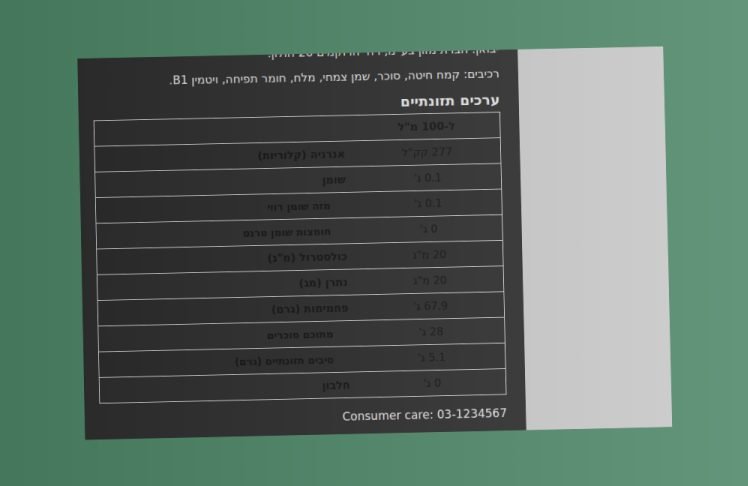carbs: (411, 298, 450, 314)
energy: (400, 143, 454, 161)
fat: (412, 169, 443, 186)
protein: (422, 375, 443, 391)
